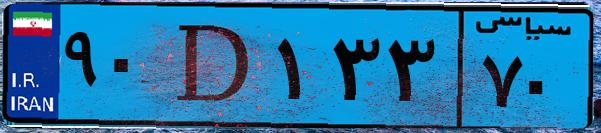0: (525, 38, 570, 115), (110, 28, 158, 98)
1: (270, 28, 330, 110)
3: (385, 28, 445, 110), (330, 28, 385, 110)
7: (475, 38, 525, 113)
9: (57, 26, 110, 100)
D: (158, 12, 270, 120)
